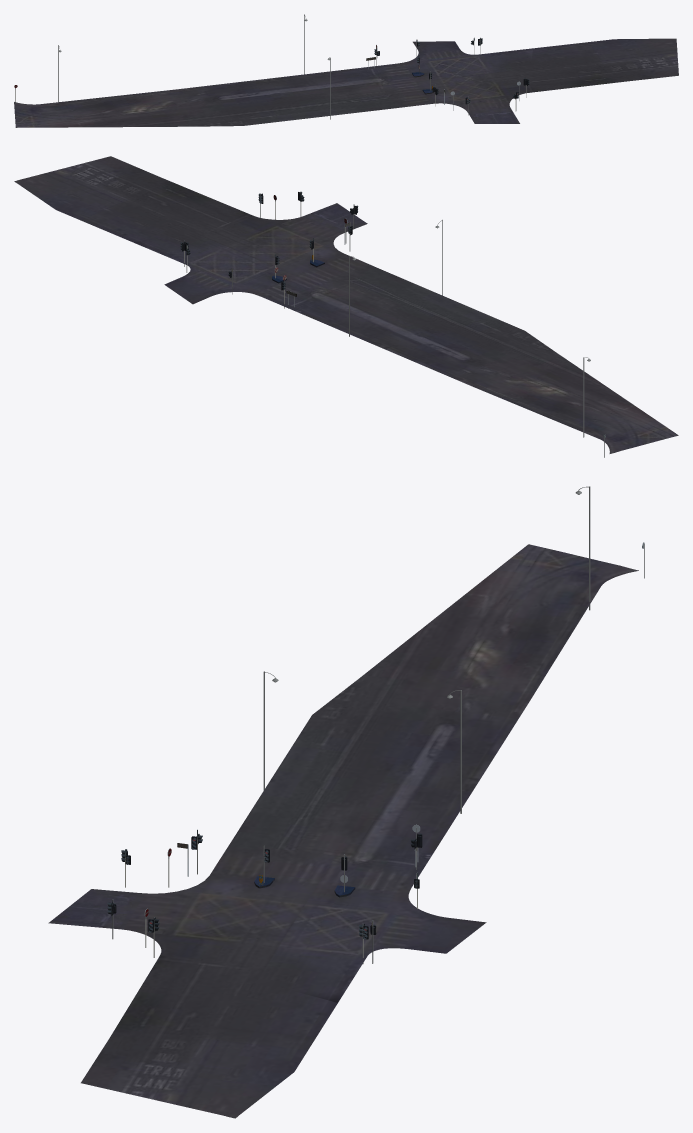
Rendered from hillier-street.glb.
3 views of the same model, one above another, from view 1: azimuth 30°, elevation 25°; view 2: azimuth 150°, elevation 25°; view 3: azimuth 270°, elevation 25° (orthographic). The views are drawn at different scales.
Visible parts, largest first — view 1: hillier-street; view 2: hillier-street; view 3: hillier-street.
Boxes of the visible parts, <box> form: hillier-street: <box>14,14,678,127</box>; hillier-street: <box>14,156,678,457</box>; hillier-street: <box>48,486,644,1118</box>.
Size of the model in its own units: 112 by 11.78 by 49.23.
Materials: 9 (9 with a texture image).
